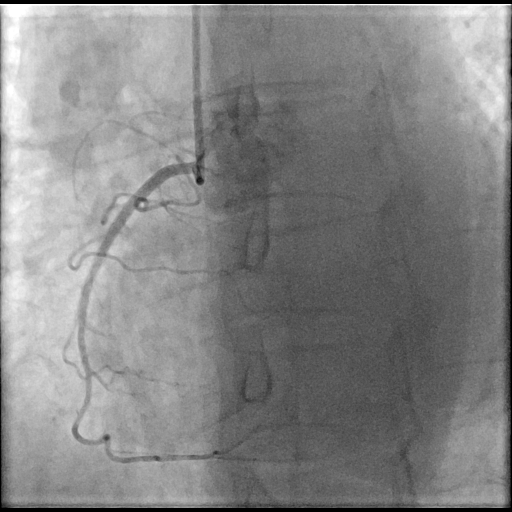RCA: (72, 162, 195, 463)
catherter: (193, 6, 205, 185)
